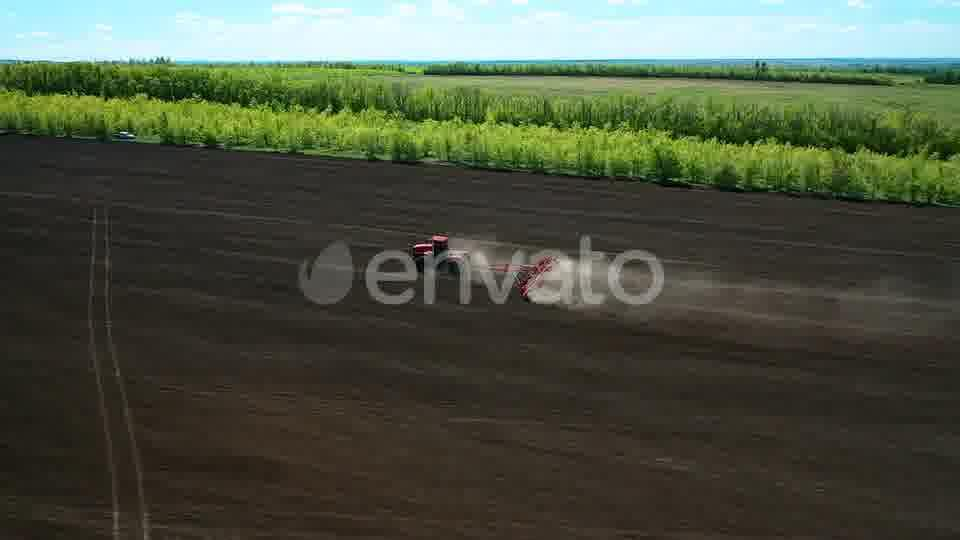tractor: (408, 232, 475, 275)
